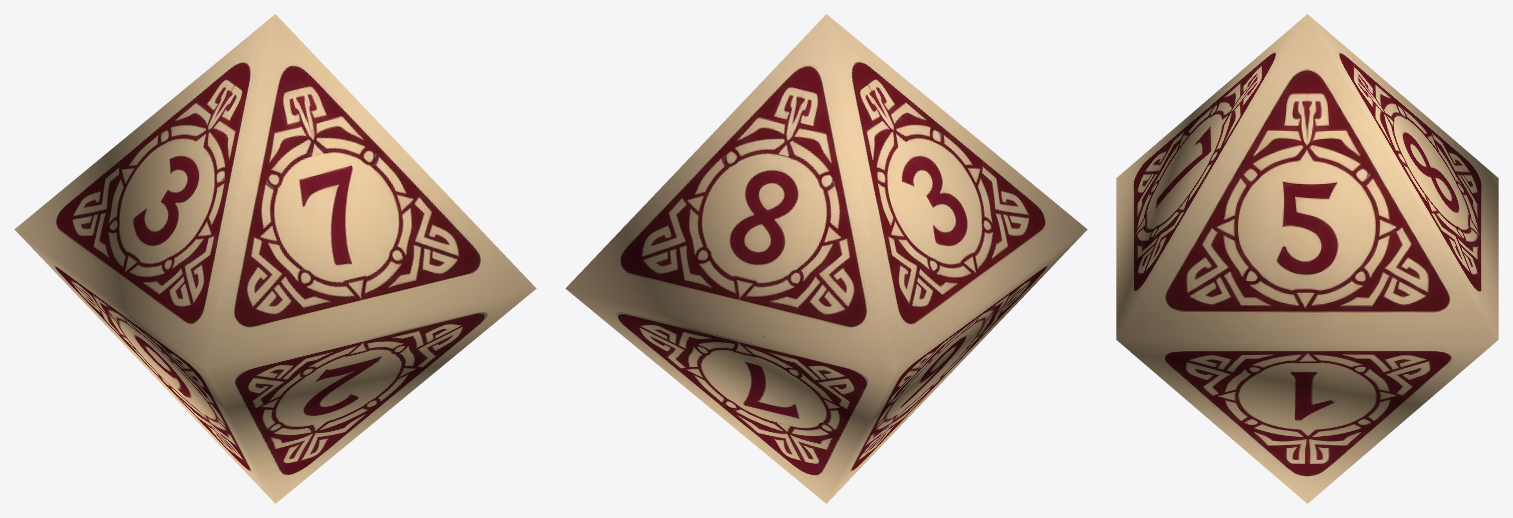
3 views of the same model, side by side, from view 1: azimuth 30°, elevation 25°; view 2: azimuth 150°, elevation 25°; view 3: azimuth 270°, elevation 25° (orthographic).
Visible parts, largest first — view 1: Mesh_0; view 2: Mesh_0; view 3: Mesh_0.
Boxes of the visible parts, x1,y1,x2,y2 form: Mesh_0: (14,14,536,503); Mesh_0: (565,14,1087,503); Mesh_0: (1116,14,1498,503).
Size of the model in its own units: 1.41 by 2 by 1.41.
1 material, 1 textured.
